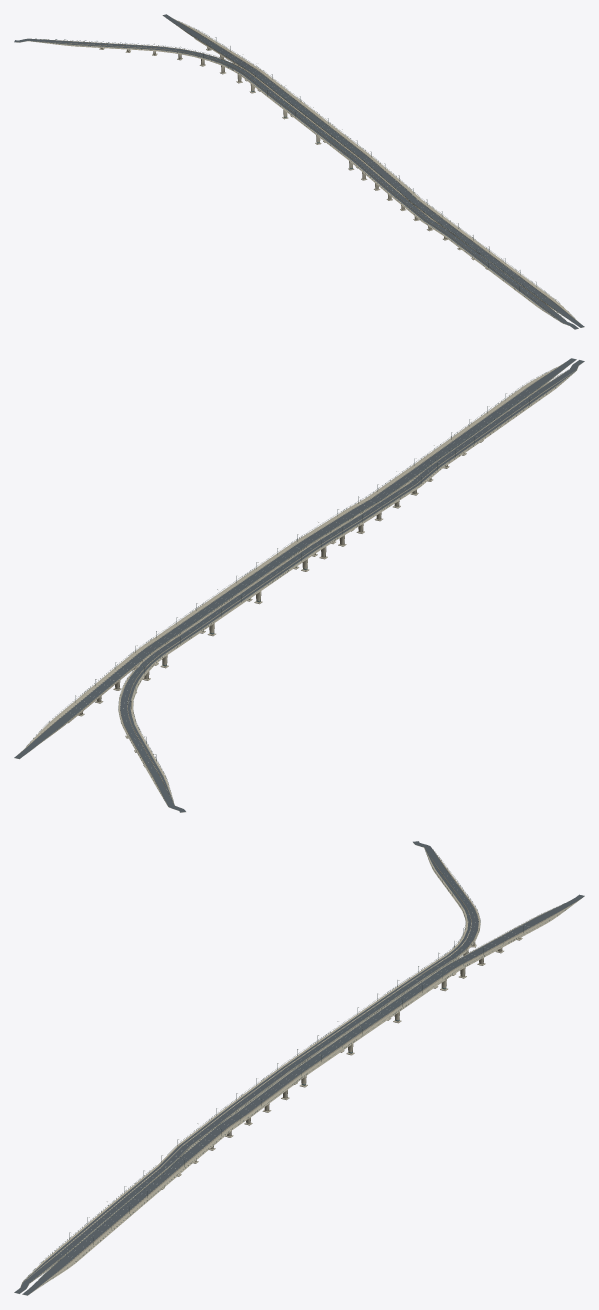
Rendered from cambie-bridge-near.glb.
The picture shows the model from 3 angles, top to bottom: view 1: azimuth 30°, elevation 25°; view 2: azimuth 150°, elevation 25°; view 3: azimuth 330°, elevation 25°; orthographic projection. The views are drawn at different scales.
Parts seen in each view (by area): view 1: cambie-bridge-sb-2-concrete, cambie-bridge-sb-1-asphalt, cambie-bridge-sb-0-asphalt, cambie-bridge-sb-1-concrete, cambie-bridge-sb-2-asphalt, cambie-bridge-nb-1-asphalt, cambie-bridge-nb-0-asphalt, cambie-bridge-nb-1-concrete, cambie-bridge-sb-0-concrete, cambie-bridge-nb-2-asphalt, cambie-bridge-nb-2-concrete, cambie-bridge-nb-0-concrete (+2 smaller); view 2: cambie-bridge-sb-2-asphalt, cambie-bridge-sb-1-concrete, cambie-bridge-sb-1-asphalt, cambie-bridge-nb-2-asphalt, cambie-bridge-sb-0-asphalt, cambie-bridge-nb-1-asphalt, cambie-bridge-nb-0-asphalt, cambie-bridge-nb-1-concrete, cambie-bridge-nb-2-concrete, cambie-bridge-sb-2-concrete, cambie-bridge-sb-0-concrete, cambie-bridge-nb-0-concrete (+2 smaller); view 3: cambie-bridge-nb-1-concrete, cambie-bridge-sb-0-asphalt, cambie-bridge-sb-1-asphalt, cambie-bridge-nb-1-asphalt, cambie-bridge-nb-0-asphalt, cambie-bridge-sb-2-asphalt, cambie-bridge-nb-2-concrete, cambie-bridge-nb-2-asphalt, cambie-bridge-sb-1-concrete, cambie-bridge-nb-0-concrete, cambie-bridge-sb-2-concrete, cambie-bridge-sb-0-concrete (+2 smaller).
Boxes of the visible parts, x1,y1,x2,y2 form: cambie-bridge-sb-2-concrete: (16,38,269,93); cambie-bridge-sb-1-asphalt: (261,88,415,208); cambie-bridge-sb-0-asphalt: (409,207,578,329); cambie-bridge-sb-1-concrete: (259,88,416,210); cambie-bridge-sb-2-asphalt: (14,38,267,89); cambie-bridge-nb-1-asphalt: (295,105,437,216); cambie-bridge-nb-0-asphalt: (431,215,584,327); cambie-bridge-nb-1-concrete: (194,38,440,217); cambie-bridge-sb-0-concrete: (407,207,578,329); cambie-bridge-nb-2-asphalt: (163,14,301,106); cambie-bridge-nb-2-concrete: (162,15,305,117); cambie-bridge-nb-0-concrete: (430,214,584,327); cambie-bridge-sb-2-asphalt: (120,635,189,812); cambie-bridge-sb-1-concrete: (179,495,401,638); cambie-bridge-sb-1-asphalt: (181,496,398,637); cambie-bridge-nb-2-asphalt: (14,608,212,758); cambie-bridge-sb-0-asphalt: (390,360,584,497); cambie-bridge-nb-1-asphalt: (205,482,403,609); cambie-bridge-nb-0-asphalt: (395,358,576,483); cambie-bridge-nb-1-concrete: (68,481,408,723); cambie-bridge-nb-2-concrete: (14,606,214,759); cambie-bridge-sb-2-concrete: (118,634,191,812); cambie-bridge-sb-0-concrete: (390,361,584,508); cambie-bridge-nb-0-concrete: (391,362,573,484); cambie-bridge-nb-1-concrete: (194,1007,398,1150); cambie-bridge-sb-0-asphalt: (14,1130,207,1293); cambie-bridge-sb-1-asphalt: (200,980,416,1131); cambie-bridge-nb-1-asphalt: (194,1008,393,1147); cambie-bridge-nb-0-asphalt: (22,1146,202,1295); cambie-bridge-sb-2-asphalt: (409,841,478,982); cambie-bridge-nb-2-concrete: (385,896,584,1023); cambie-bridge-nb-2-asphalt: (385,894,584,1009); cambie-bridge-sb-1-concrete: (198,952,465,1132); cambie-bridge-nb-0-concrete: (22,1146,208,1295); cambie-bridge-sb-2-concrete: (407,843,480,988); cambie-bridge-sb-0-concrete: (14,1129,208,1293).
Size of the model in its own units: 205 by 26.64 by 1057.
